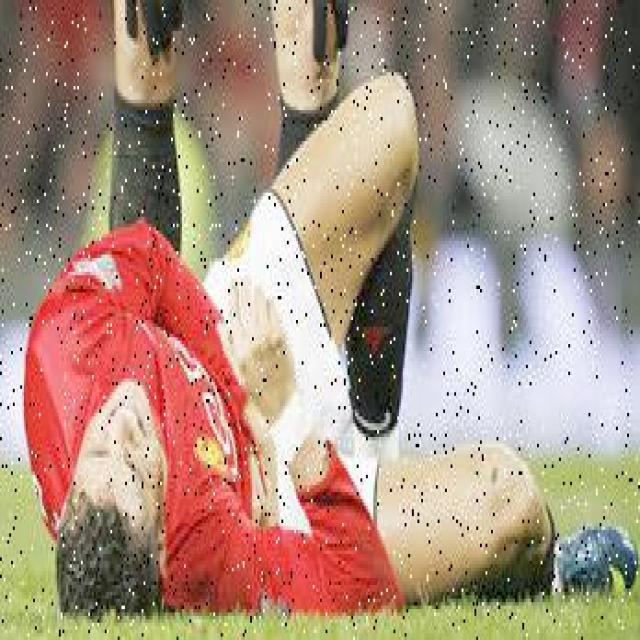fall: (42, 82, 586, 610)
